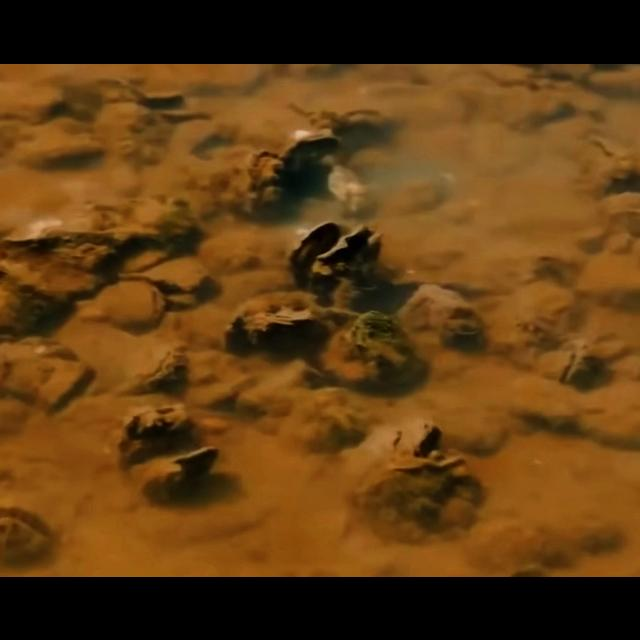Oyster-Closed: (357, 452, 485, 534), (316, 306, 418, 392), (224, 288, 326, 357), (0, 240, 108, 298), (396, 280, 480, 346), (114, 403, 194, 469), (92, 277, 168, 333), (130, 340, 190, 396), (536, 334, 598, 388), (244, 148, 294, 212)
Oyster-Open: (346, 413, 444, 475), (310, 225, 384, 301), (130, 257, 220, 309), (144, 445, 220, 503), (289, 219, 341, 295), (282, 130, 341, 194), (0, 499, 56, 566)
